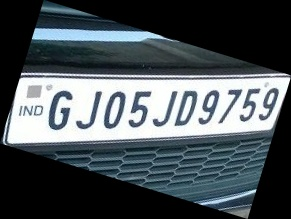character: (75, 90, 103, 129), (47, 89, 72, 131), (216, 88, 244, 124), (152, 89, 178, 127), (128, 89, 152, 128), (173, 90, 199, 126), (103, 90, 126, 128), (197, 89, 220, 125), (258, 85, 280, 121), (239, 87, 262, 121)
